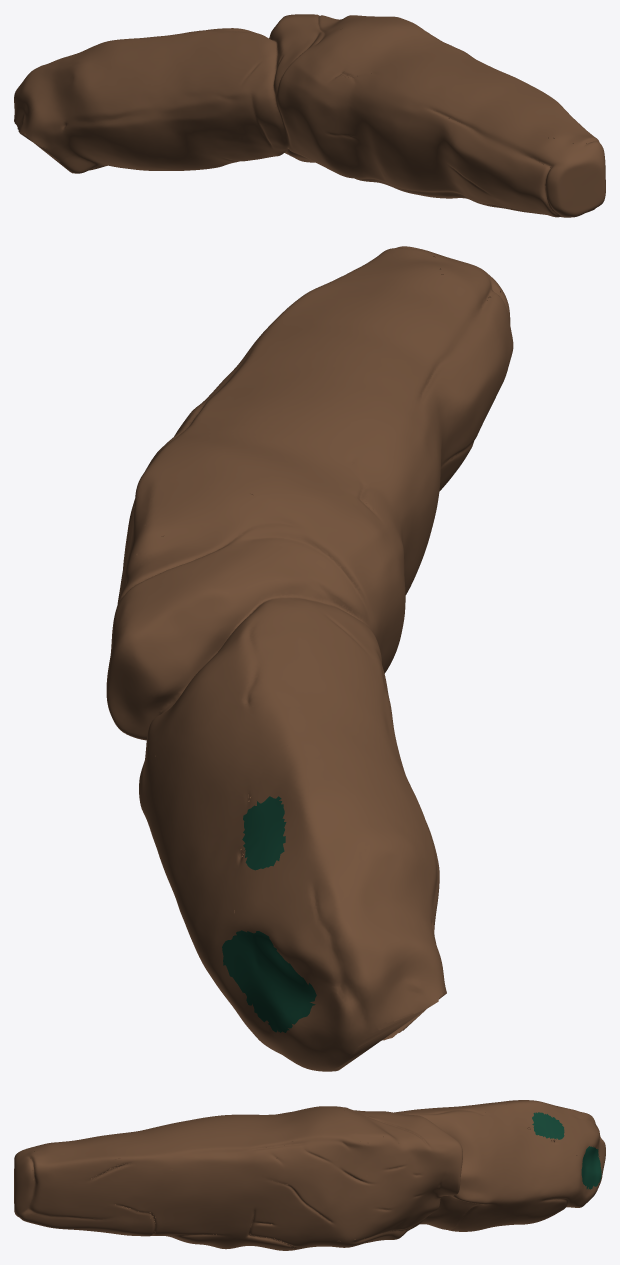
Rendered from brazoIzqRocky.obj.
The picture shows the model from 3 angles, top to bottom: view 1: azimuth 30°, elevation 25°; view 2: azimuth 150°, elevation 25°; view 3: azimuth 270°, elevation 25°; orthographic projection. The views are drawn at different scales.
Parts seen in each view (by area): view 1: brazoIzq_colorCafe; view 2: brazoIzq_colorCafe, brazoIzq_Material.001; view 3: brazoIzq_colorCafe, brazoIzq_Material.001.
Boxes of the visible parts, box(x1,y1,x2,y2) form: brazoIzq_colorCafe: box(14, 14, 605, 217); brazoIzq_colorCafe: box(106, 246, 513, 1071); brazoIzq_Material.001: box(222, 796, 316, 1032); brazoIzq_colorCafe: box(14, 1100, 605, 1250); brazoIzq_Material.001: box(532, 1112, 601, 1189).
Bounding box in the file's own units: 0.3195 × 0.178 × 0.5607.
